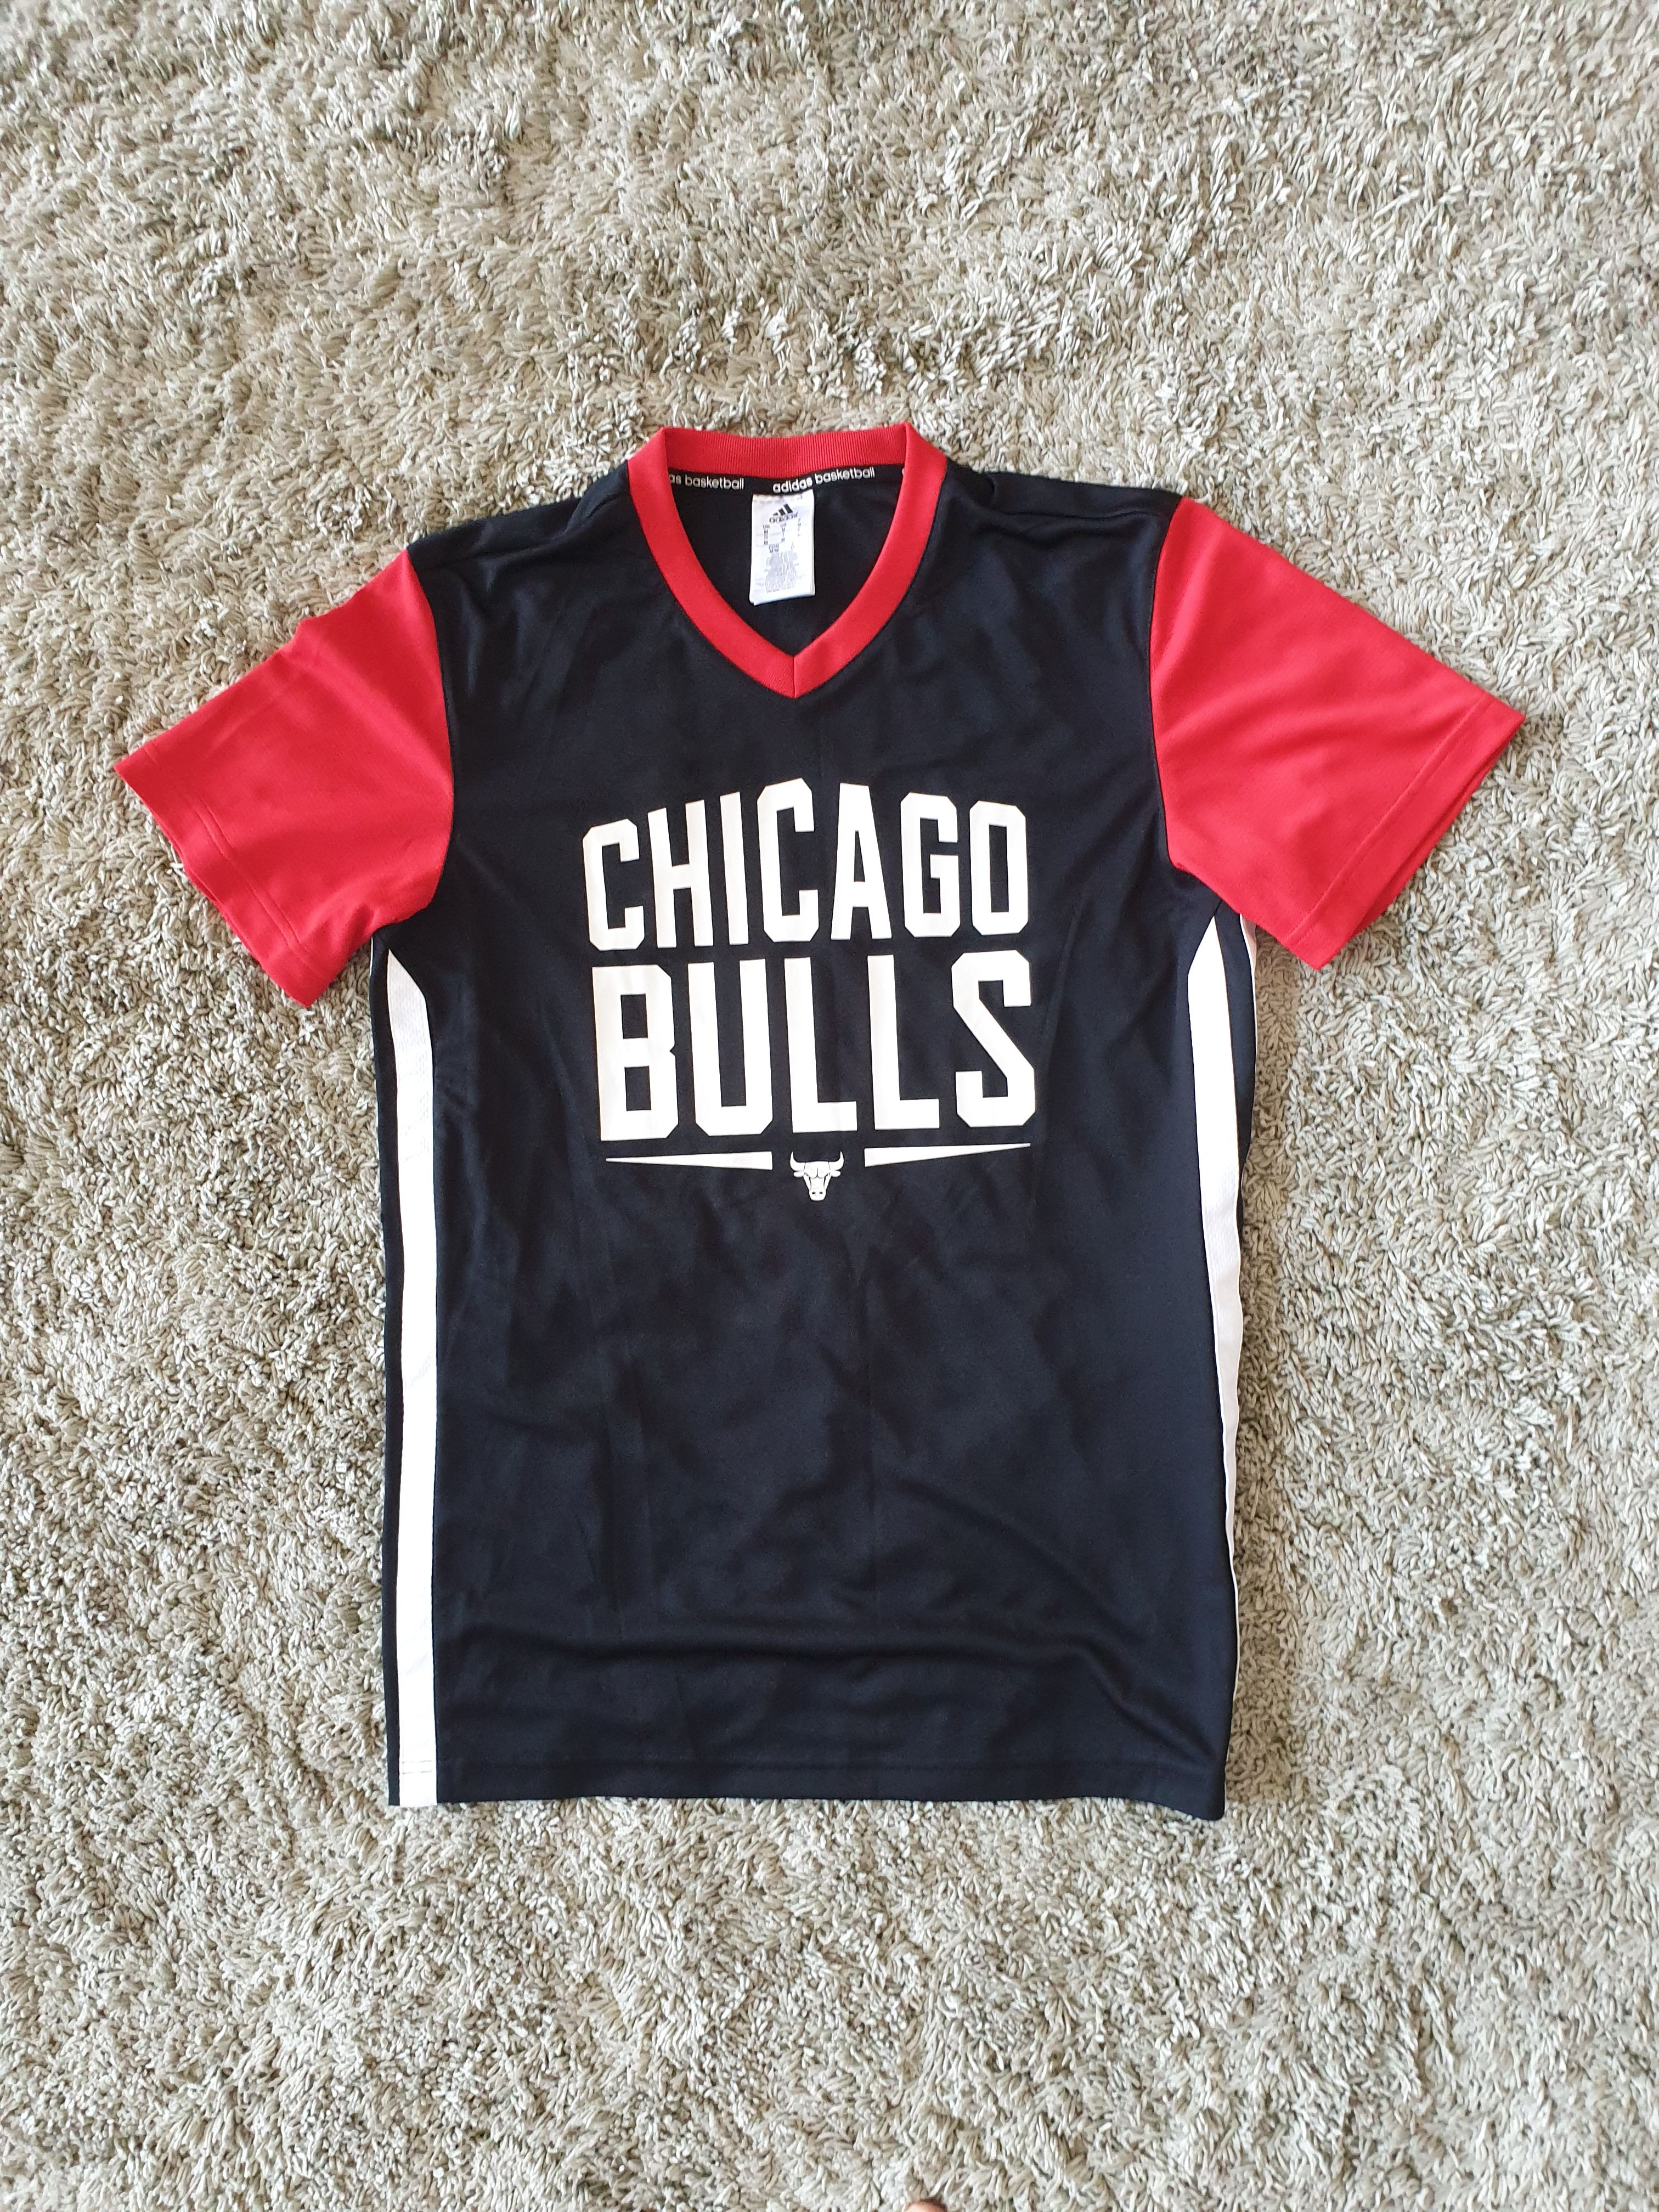clothes: (120, 406, 1539, 1820)
